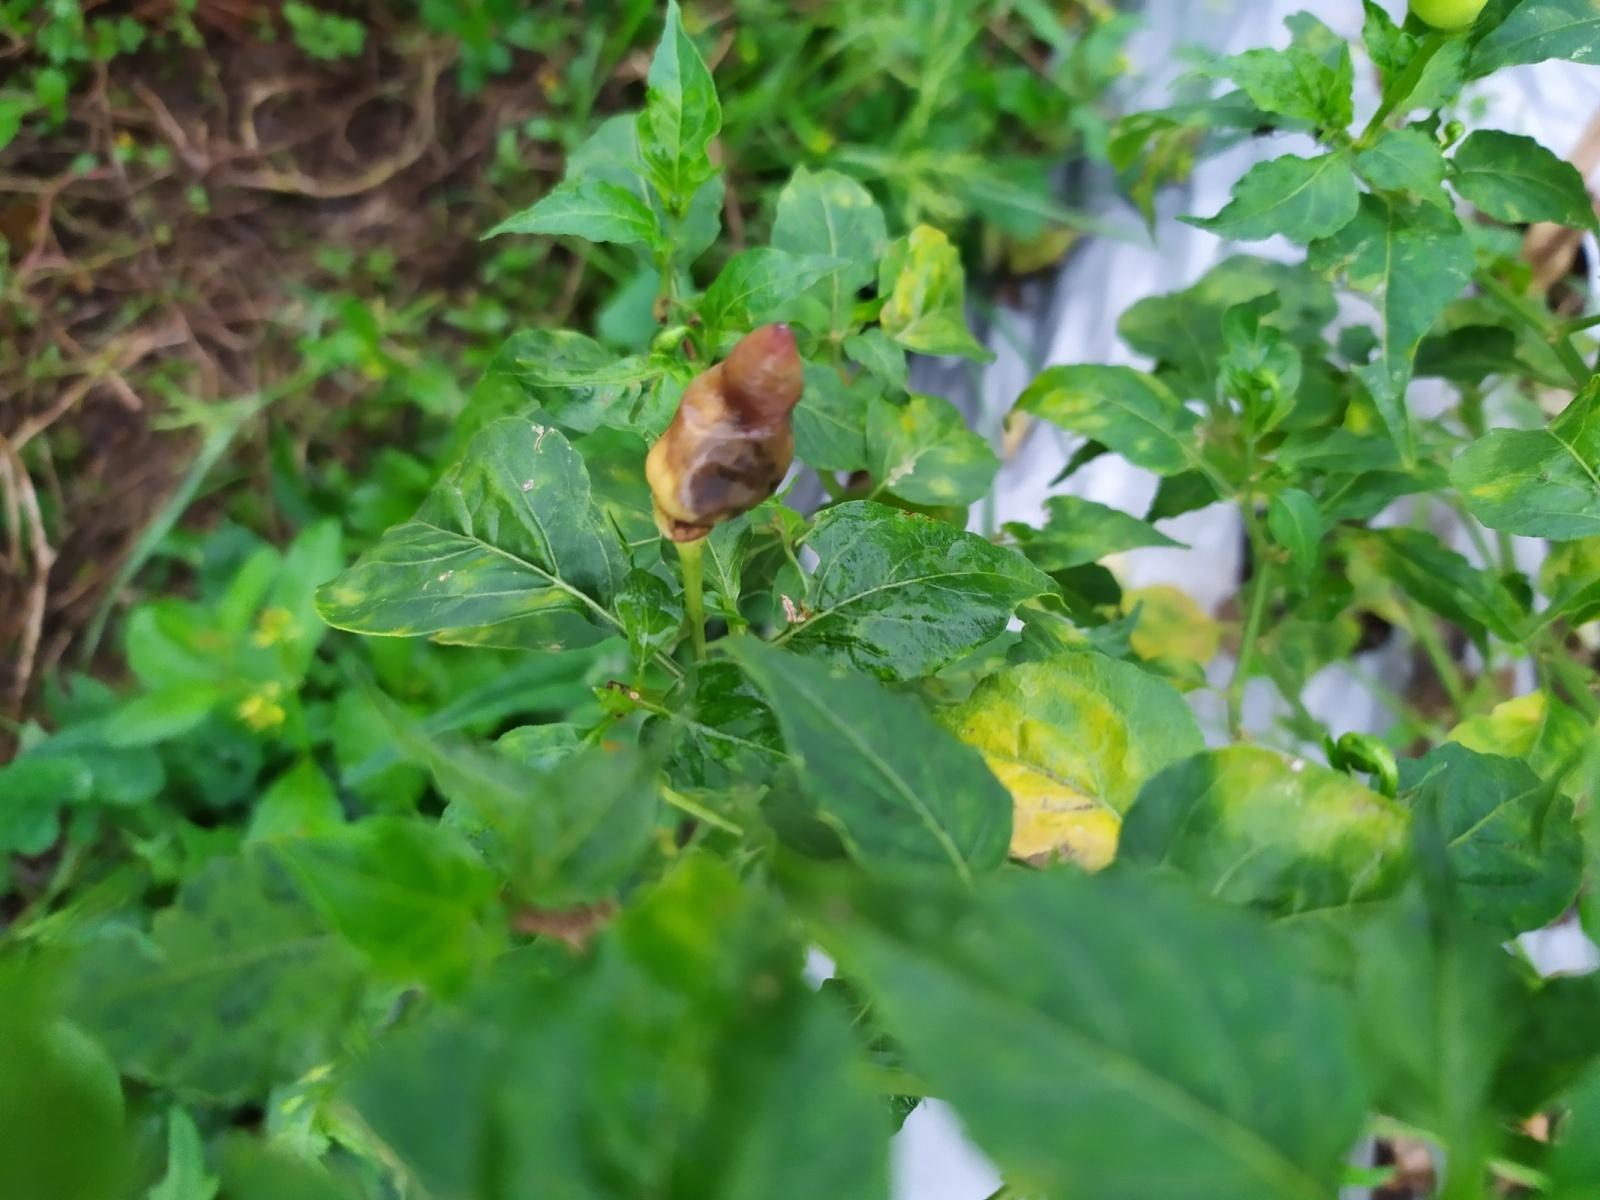lalat_buah: (648, 319, 806, 543)
